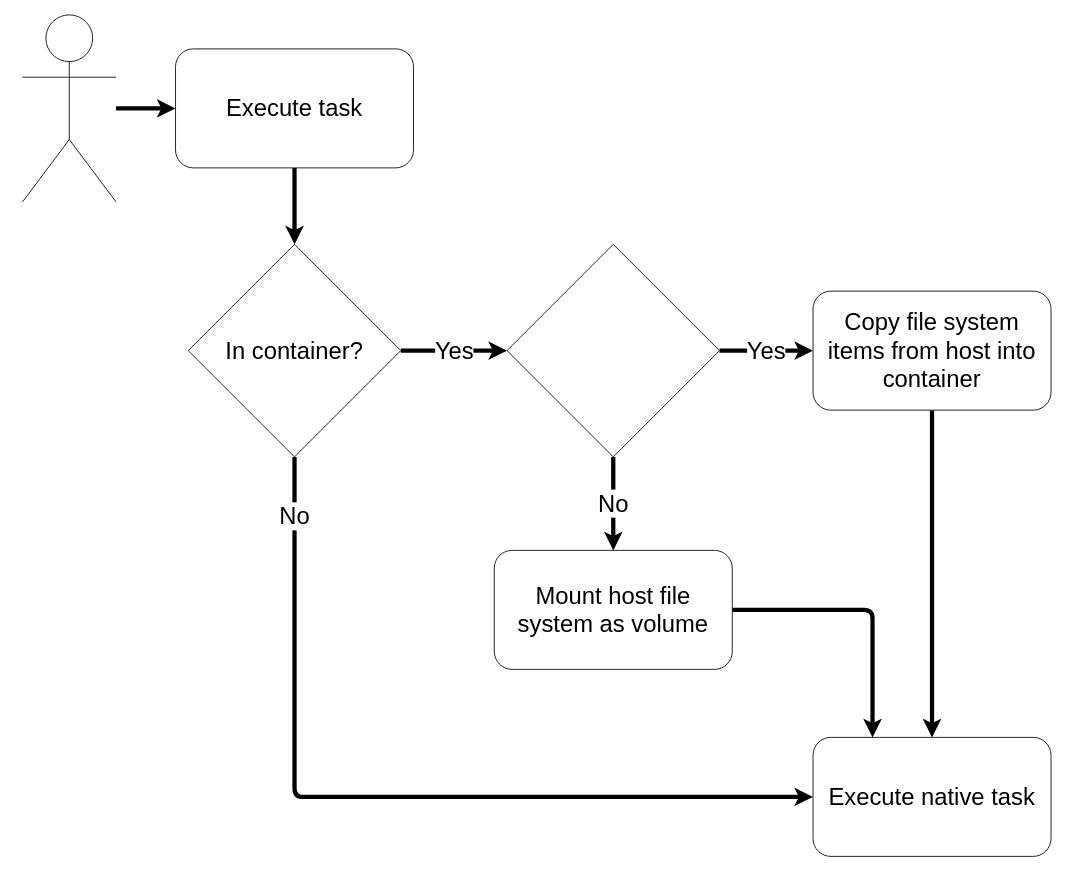
The diagram is 1066 pixels wide and 871 high, and some of its shapes have lost their labels. The box of each missing label's shape, as (x1, y1, x2, y2) in pixels:
Container file system?: (506, 244, 720, 457)
Developer: (22, 14, 116, 202)
